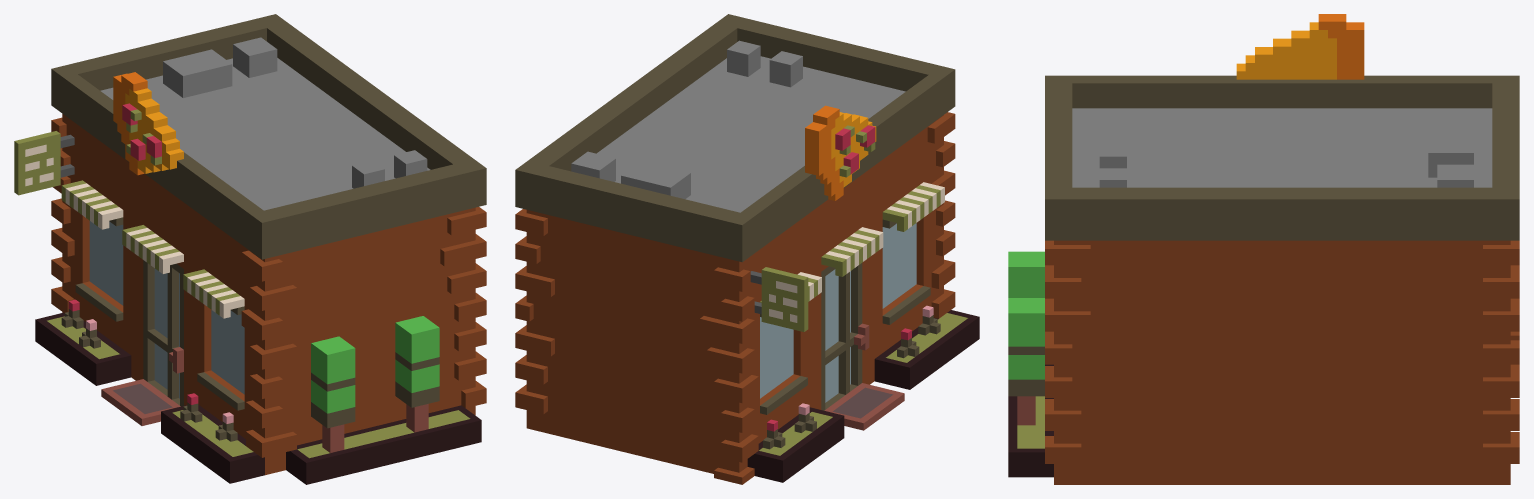
The model's file is Buildings Final For Import-15.obj.
The picture shows the model from 3 angles, left to right: view 1: azimuth 30°, elevation 25°; view 2: azimuth 150°, elevation 25°; view 3: azimuth 270°, elevation 25°; orthographic projection. The views are drawn at different scales.
Size of the model in its own units: 3.9 by 4.2 by 5.6.
Materials: 1 (1 with a texture image).
